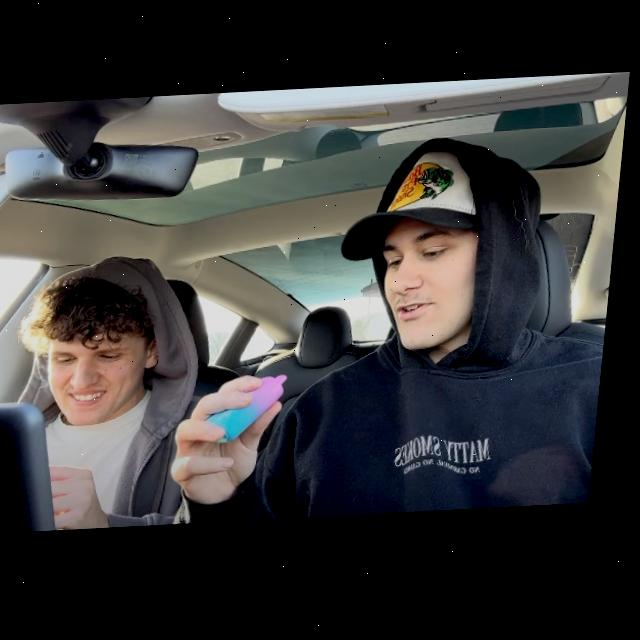vape: (212, 378, 296, 446)
